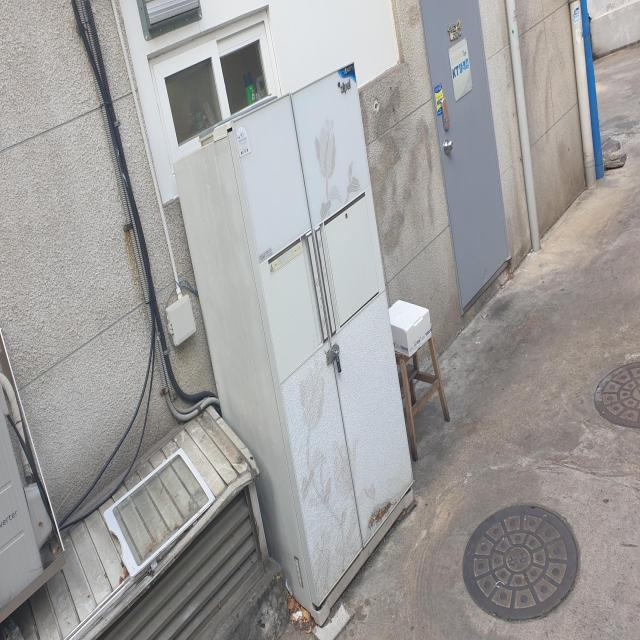refrigerator: (170, 62, 417, 624)
